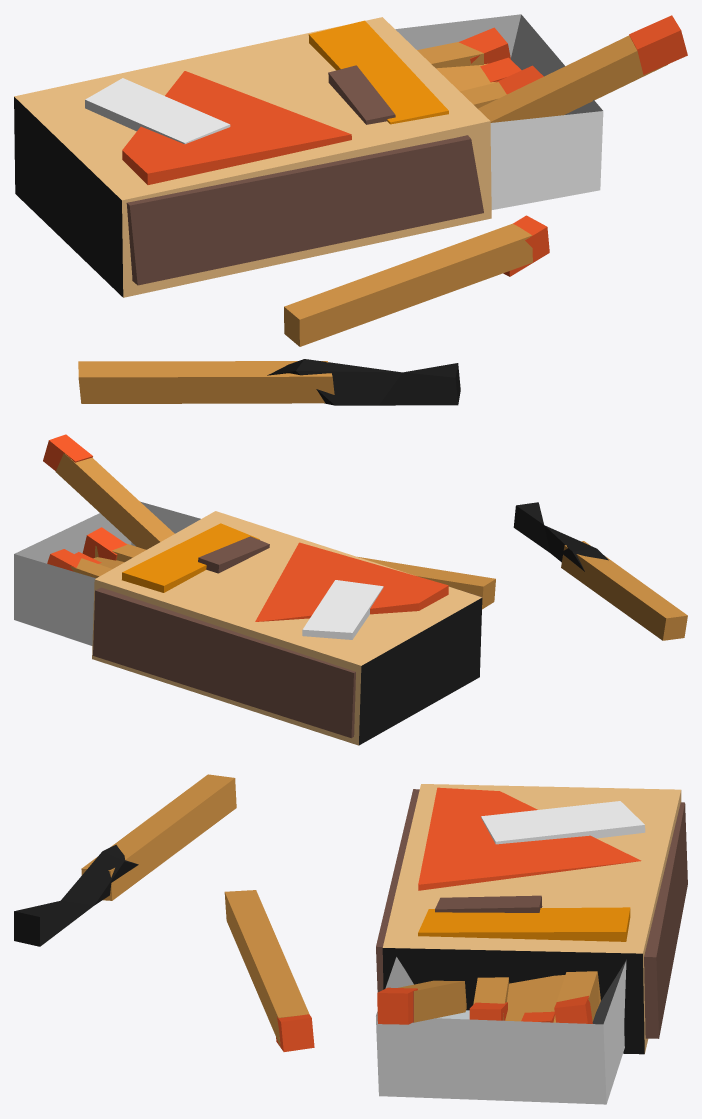
The model's file is Streichhölzer.fbx.
3 views of the same model, one above another, from view 1: azimuth 30°, elevation 25°; view 2: azimuth 150°, elevation 25°; view 3: azimuth 270°, elevation 25° (orthographic). The views are drawn at different scales.
Visible parts, largest first — view 1: group_2018236600, group_749834063, group_1456085662; view 2: group_2018236600, group_749834063, group_1456085662; view 3: group_2018236600, group_749834063, group_1456085662.
Part boxes in pixels (left/top/right/bottom): group_2018236600: left=14, top=14, right=687, bottom=297; group_749834063: left=78, top=359, right=460, bottom=405; group_1456085662: left=284, top=215, right=549, bottom=346; group_2018236600: left=14, top=434, right=482, bottom=745; group_749834063: left=513, top=502, right=687, bottom=640; group_1456085662: left=357, top=556, right=495, bottom=609; group_2018236600: left=376, top=784, right=687, bottom=1104; group_749834063: left=14, top=774, right=236, bottom=946; group_1456085662: left=224, top=890, right=314, bottom=1051.
Bounding box in the file's own units: 18.26 × 3.96 × 15.1.
